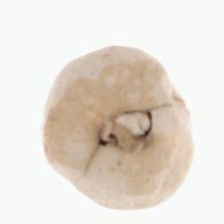L3: (93, 104, 156, 156)
L4: (43, 44, 195, 210)
